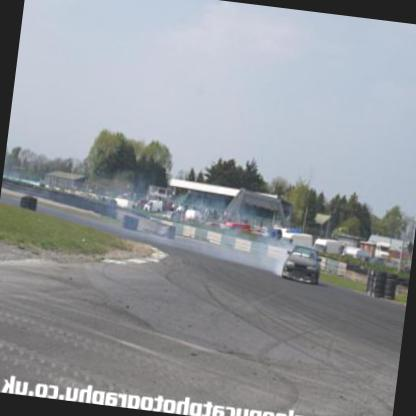car: (280, 233, 326, 286)
